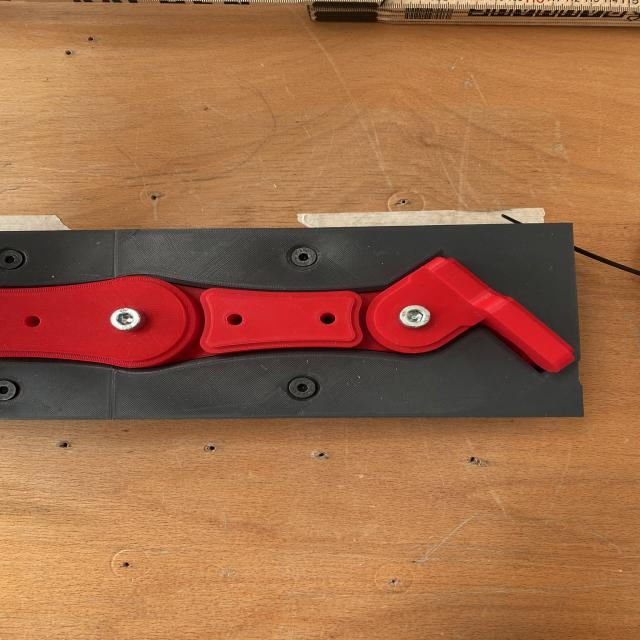HexScrew: (400, 304, 432, 328), (112, 307, 140, 332), (288, 376, 318, 399), (292, 245, 318, 268), (1, 248, 22, 270), (0, 381, 18, 401)
